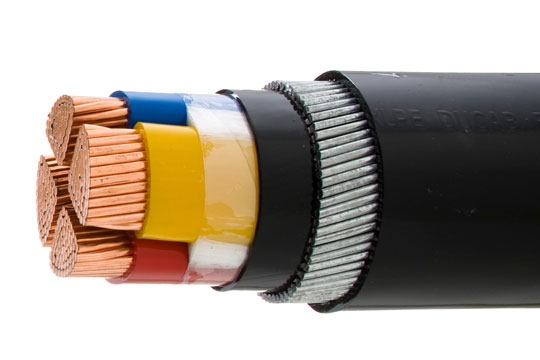Nonrec_Tangler: (43, 89, 530, 312)
